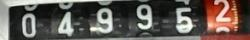digits: (10, 0, 206, 37), (201, 0, 238, 31), (88, 7, 113, 33), (174, 7, 193, 32), (135, 3, 153, 29), (57, 11, 74, 37), (21, 13, 36, 37), (213, 0, 230, 21), (174, 0, 189, 4)
